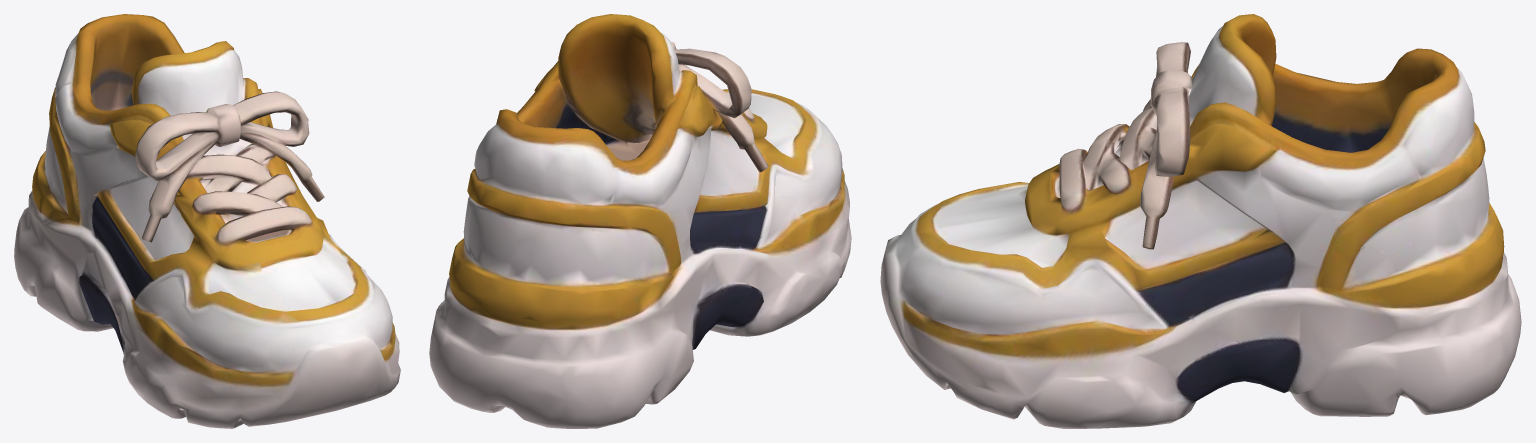
File: shoe-racer.glb
3 renders of one model, left to right at view 1: azimuth 30°, elevation 25°; view 2: azimuth 150°, elevation 25°; view 3: azimuth 270°, elevation 25°, orthographic. The views are drawn at different scales.
Visible parts, largest first — view 1: shoe-racer; view 2: shoe-racer; view 3: shoe-racer.
Boxes of the visible parts, bbox=[...] form: shoe-racer: bbox=[14, 14, 400, 428]; shoe-racer: bbox=[429, 14, 851, 428]; shoe-racer: bbox=[880, 14, 1521, 428].
Size of the model in its own units: 0.4904 by 0.5921 by 1.
Materials: 1 (1 with a texture image).
